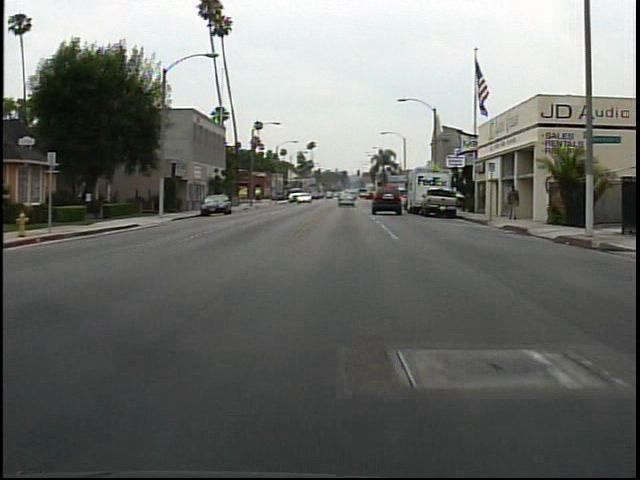person: (503, 183, 523, 223)
